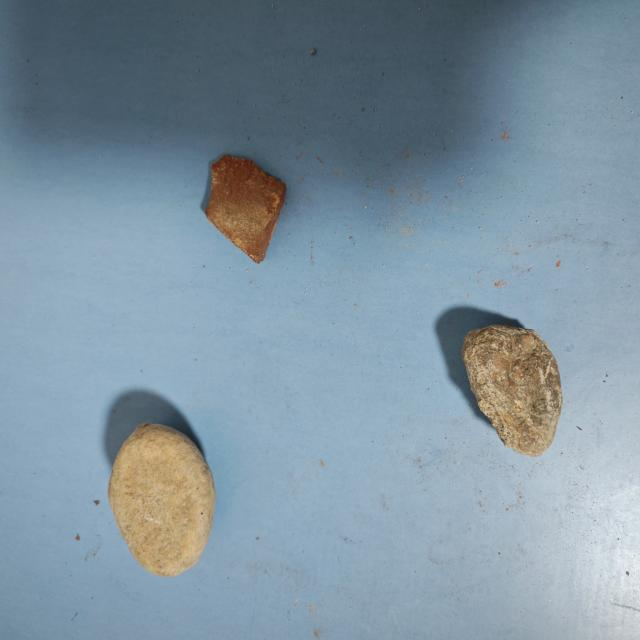-Other waste - brick-: (203, 145, 291, 266)
-Other waste - pebble-: (105, 417, 213, 576), (464, 321, 566, 455)
